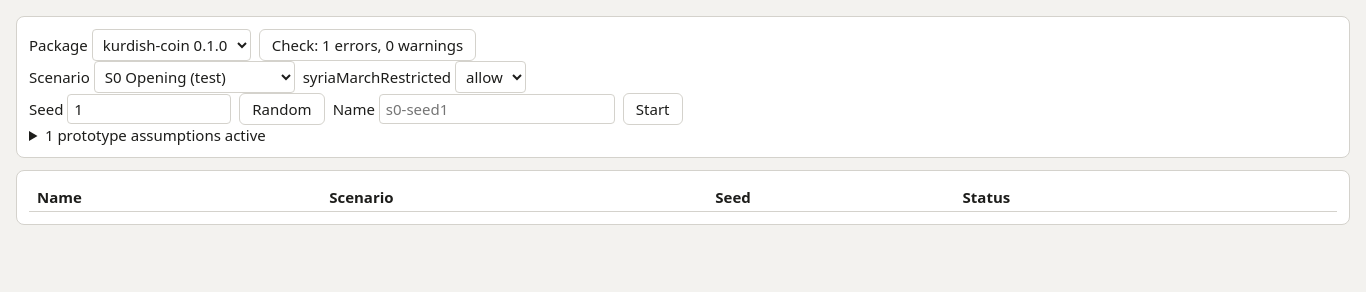
Test case: Home › enables Start for S0, disables it for the blocked full campaign, and lists PA warnings
The width and height of the screenshot is (1366, 292).
Expected: the button "Start" is enabled, [623, 93, 682, 125]
Select "Full campaign (blocked)" in the dropdown labelled "Scenario" at point(194, 77), box [94, 61, 295, 93]
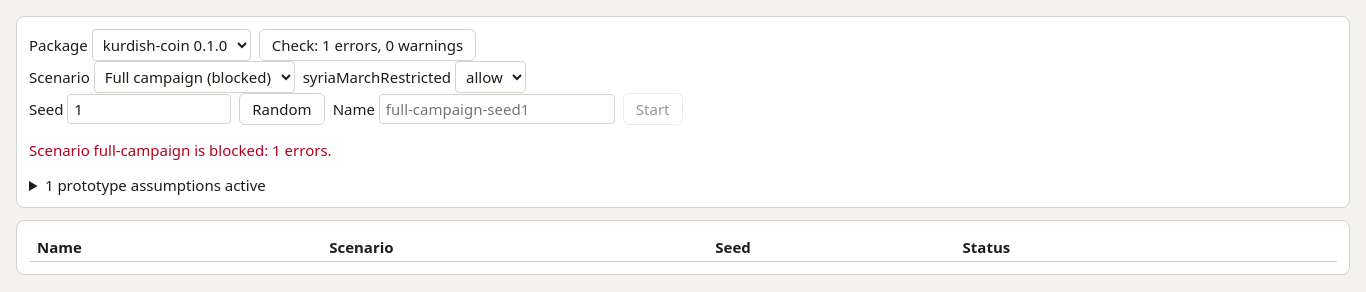
Expected: the heading "1 prototype assumptions active" is shown, [45, 175, 266, 195]
Expected: the button "Start" is disabled, [623, 93, 682, 125]
Expected: the text "Scenario full-campaign is blocked: 1 errors." is shown, [29, 140, 332, 160]
